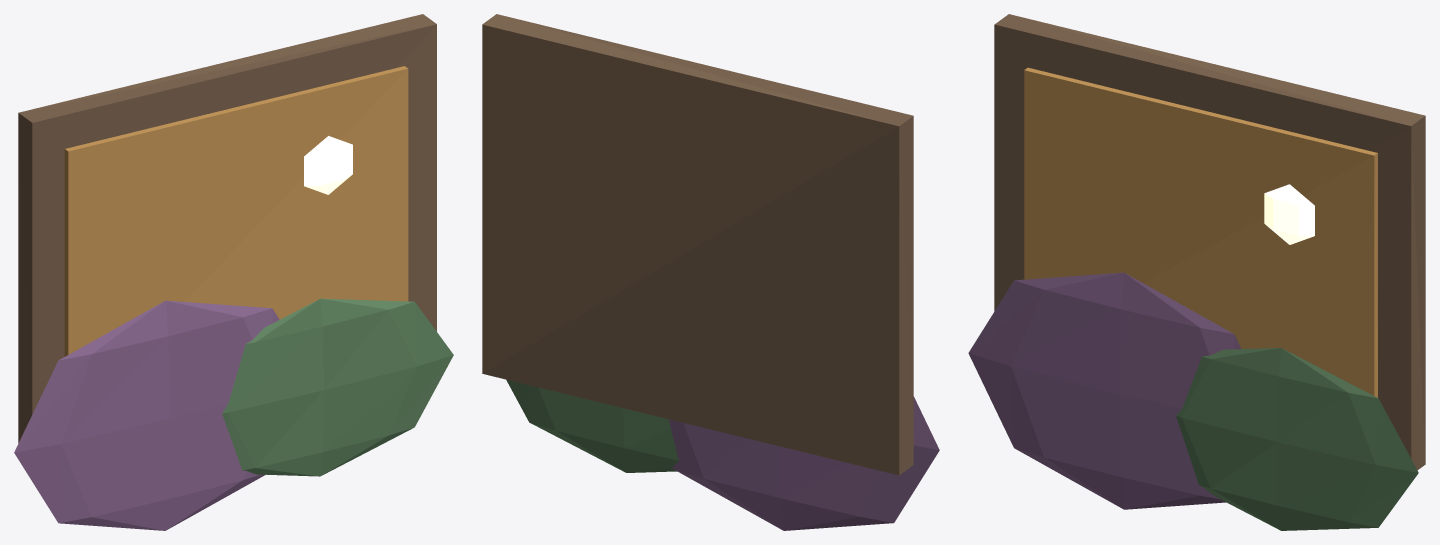
File: picture_b.glb
The picture shows the model from 3 angles, left to right: view 1: azimuth 30°, elevation 25°; view 2: azimuth 150°, elevation 25°; view 3: azimuth 330°, elevation 25°; orthographic projection. The views are drawn at different scales.
Visible parts, largest first — view 1: picture_b; view 2: picture_b; view 3: picture_b.
Boxes of the visible parts, x1,y1,x2,y2 form: picture_b: (14, 14, 453, 530); picture_b: (482, 14, 939, 530); picture_b: (968, 14, 1425, 530).
Bounding box in the file's own units: 1.08 × 1.03 × 0.0958.
